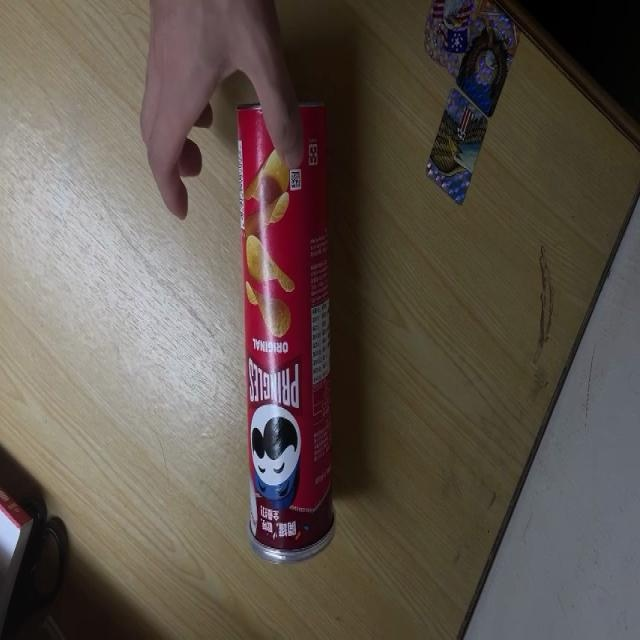Pringles: (236, 104, 335, 564)
